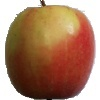apple: (3, 5, 97, 100)
